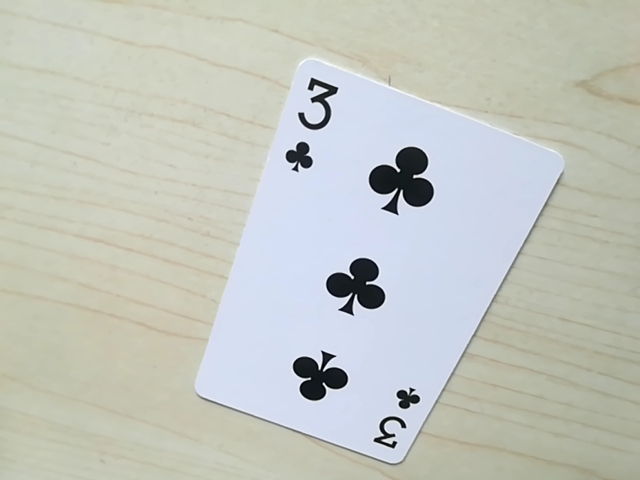mh 3: (277, 66, 343, 179), (369, 383, 420, 459)
